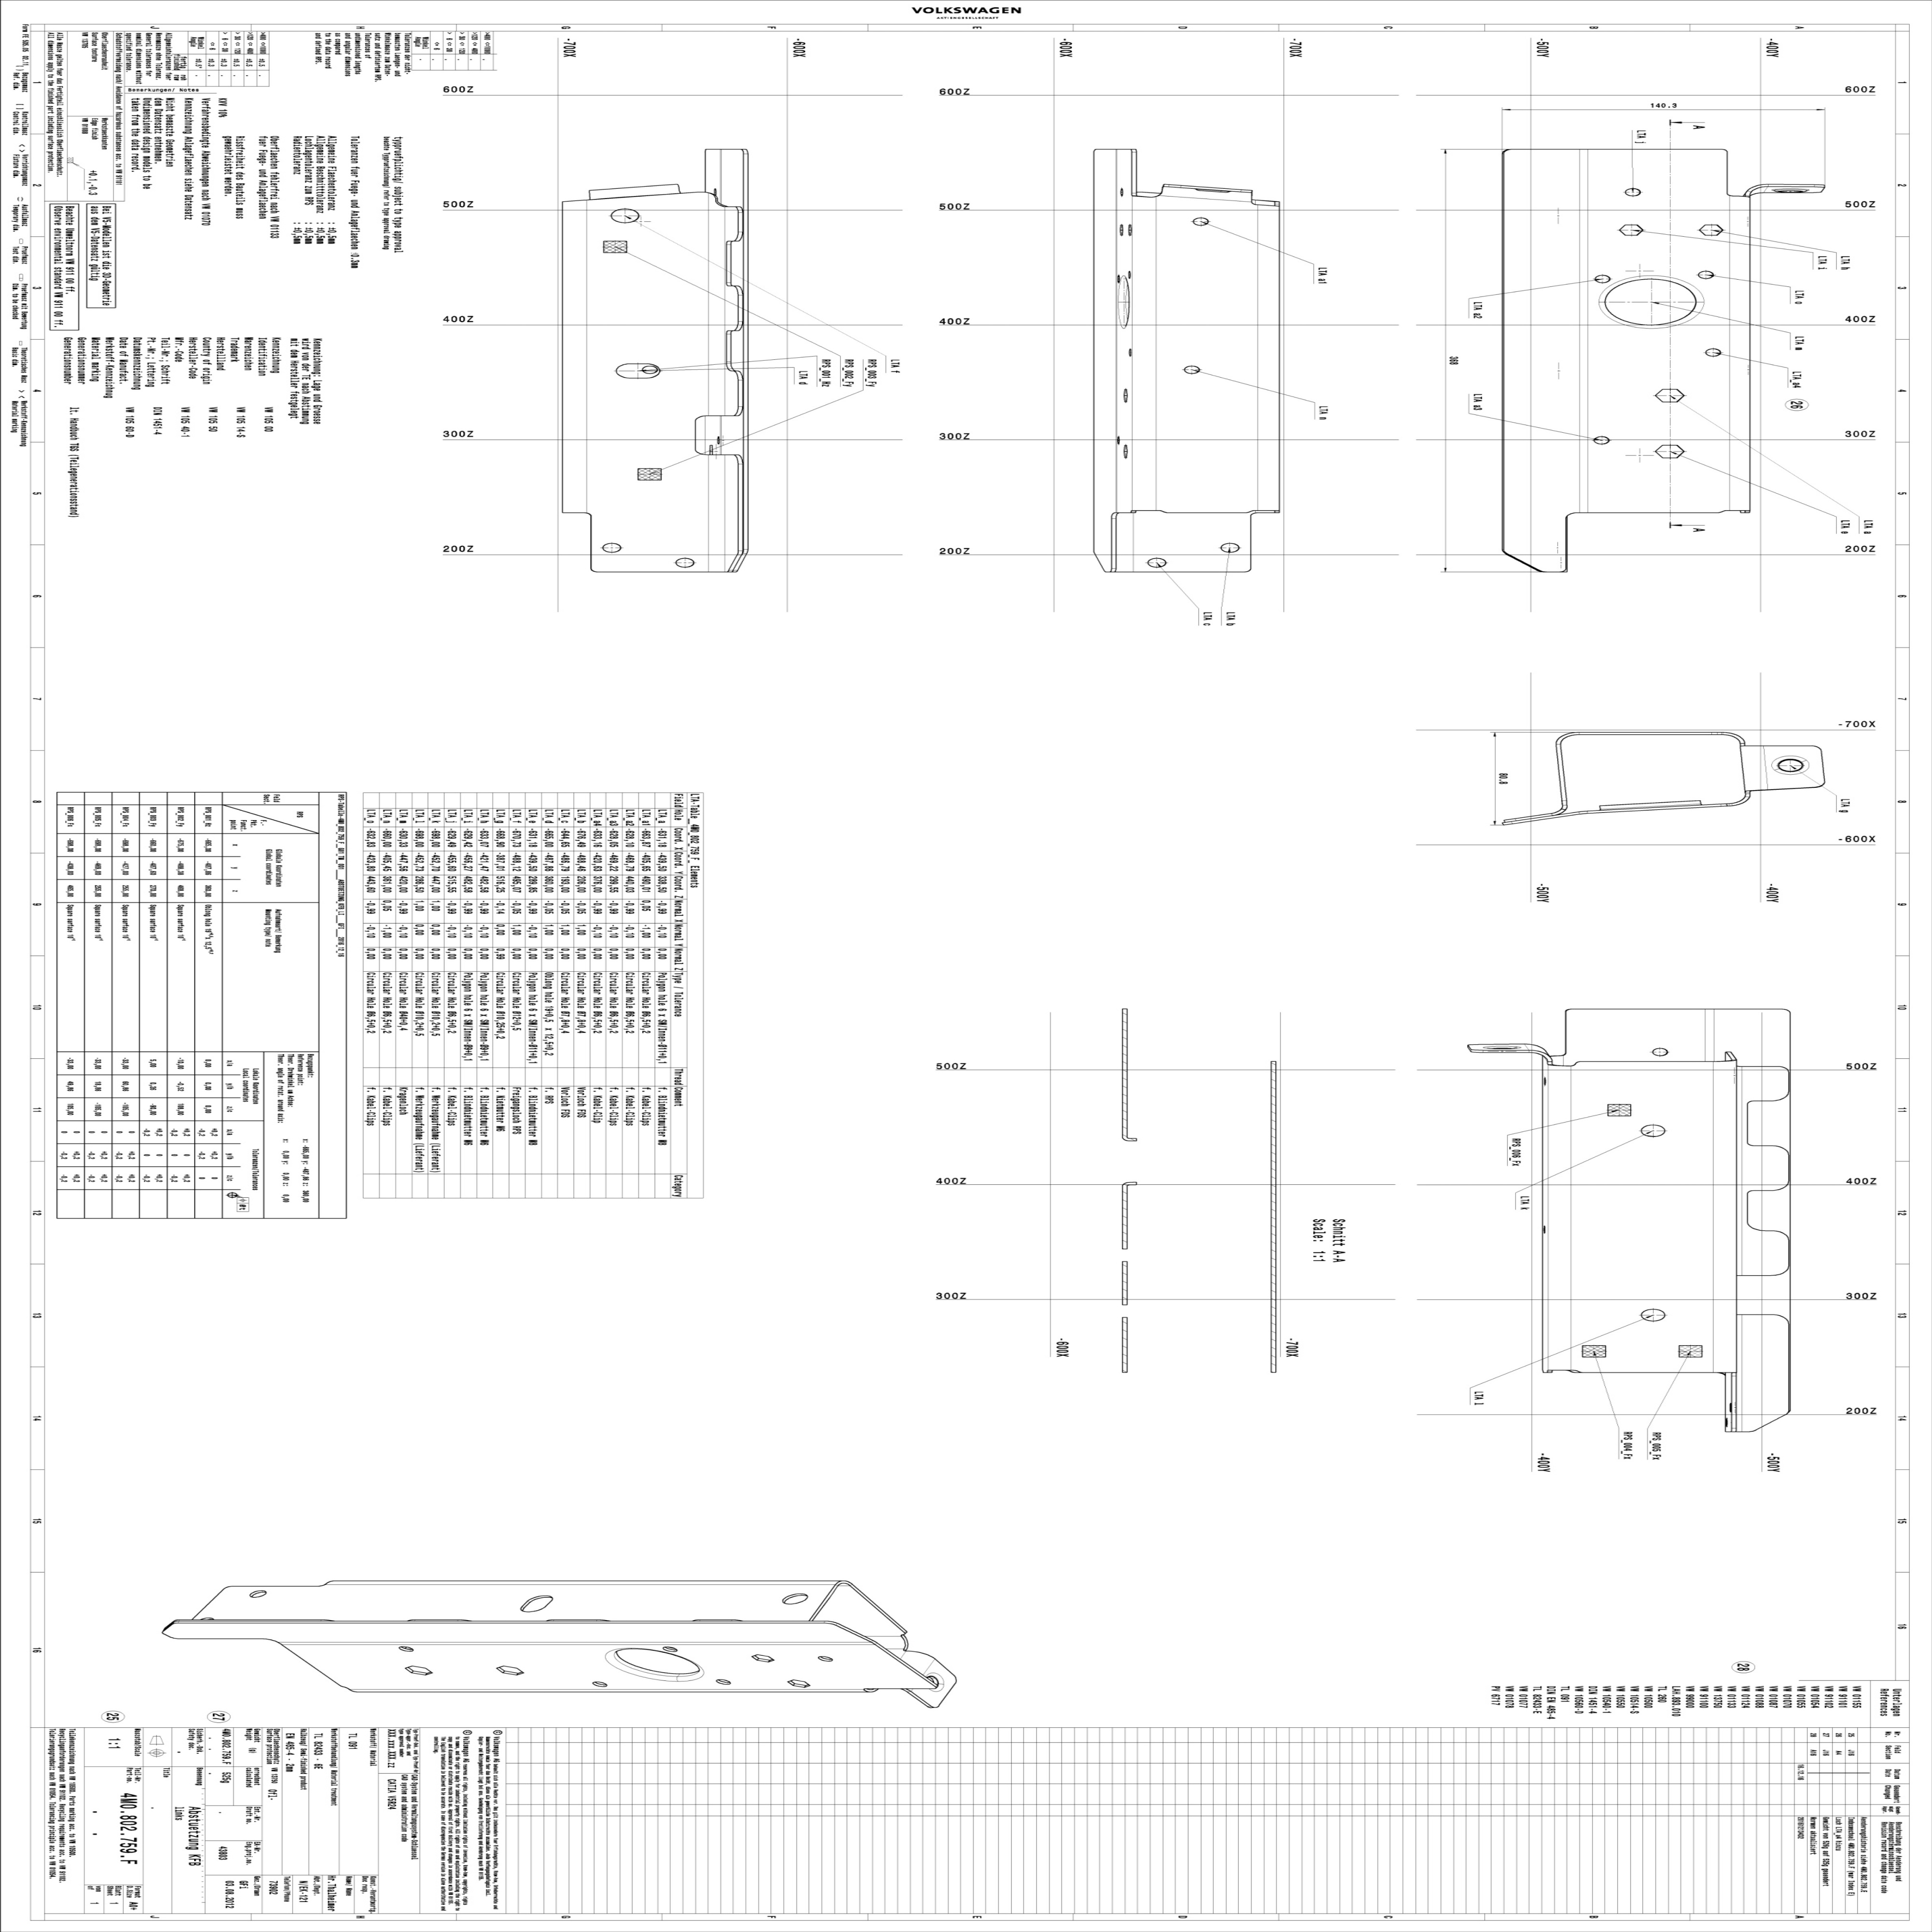BendingEdge: (560, 203, 589, 511), (1255, 205, 1283, 512), (1547, 1066, 1574, 1368), (1712, 1065, 1738, 1371), (1727, 198, 1748, 512), (707, 202, 725, 569), (1578, 150, 1591, 511), (334, 1578, 833, 1587), (281, 1640, 865, 1647), (353, 1688, 862, 1695), (1114, 150, 1118, 511), (899, 1644, 936, 1675)
BendingEdgeCurve: (1528, 1036, 1558, 1069), (1715, 730, 1747, 745), (1554, 732, 1582, 745), (1724, 796, 1752, 808), (1747, 183, 1769, 194), (1548, 807, 1569, 817)
InnerContour: (616, 361, 661, 380), (518, 1594, 555, 1613), (609, 208, 640, 224), (1638, 1307, 1667, 1323), (1639, 1122, 1667, 1138), (781, 1591, 809, 1606), (1144, 556, 1168, 570), (673, 556, 696, 569), (600, 541, 622, 555), (1221, 541, 1240, 554), (1696, 268, 1716, 281), (1704, 345, 1722, 359), (1593, 272, 1612, 284), (1592, 434, 1611, 447), (1623, 185, 1642, 198), (1191, 215, 1210, 227), (1650, 1046, 1670, 1057), (247, 1589, 268, 1599), (1182, 364, 1201, 375), (815, 1654, 834, 1664), (715, 1677, 733, 1686), (591, 1679, 609, 1689), (397, 1645, 414, 1654), (662, 1646, 681, 1653), (1129, 348, 1133, 357), (1120, 188, 1124, 197)
InnerContourAngular: (1653, 443, 1686, 463), (1655, 385, 1685, 405), (1617, 221, 1645, 238), (495, 1663, 526, 1679), (1698, 221, 1725, 238), (405, 1665, 437, 1677), (750, 1651, 776, 1665), (787, 1676, 811, 1689), (1121, 386, 1131, 404), (1122, 443, 1129, 459), (1127, 224, 1135, 237), (1119, 223, 1124, 236)
Notch: (1745, 1097, 1790, 1150), (1746, 1187, 1789, 1236), (695, 413, 742, 456), (724, 326, 743, 376), (725, 236, 742, 288)
ThroughHole: (1598, 273, 1706, 330), (603, 1643, 707, 1686), (1771, 753, 1811, 775), (1118, 274, 1130, 329), (925, 1672, 946, 1693)
ThroughHoleExternal: (1482, 1044, 1522, 1052), (1193, 187, 1236, 195), (1772, 187, 1810, 194)
